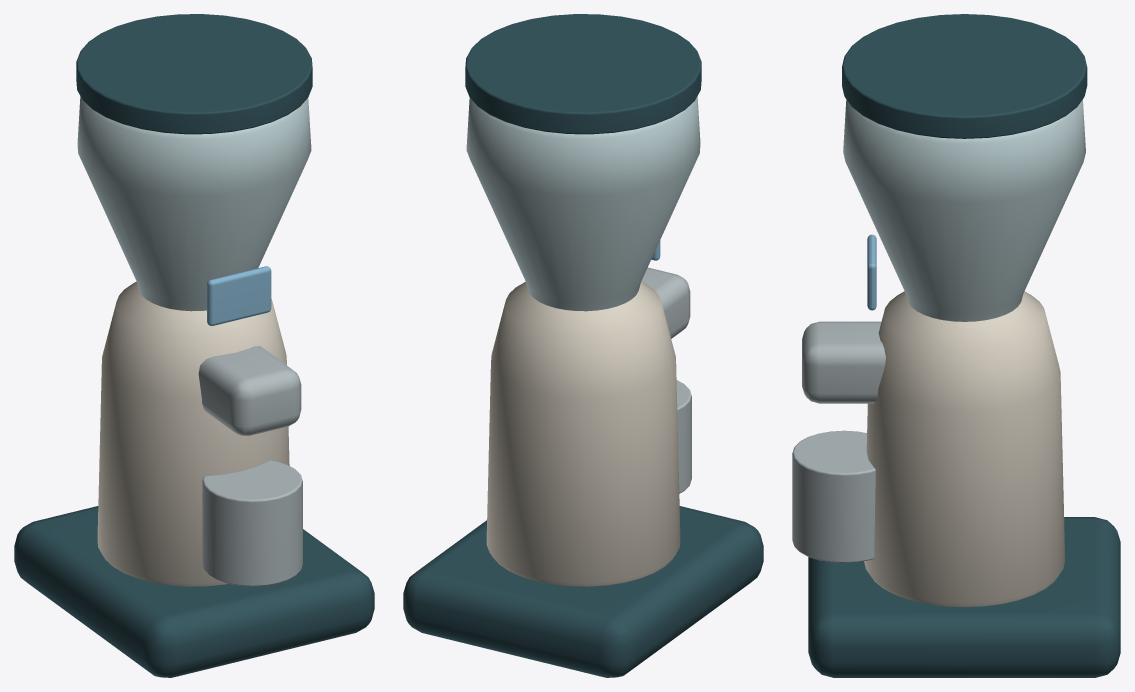
File: ce_grinder.glb
3 renders of one model, left to right at view 1: azimuth 30°, elevation 25°; view 2: azimuth 150°, elevation 25°; view 3: azimuth 270°, elevation 25°, orthographic. The views are drawn at different scales.
Parts seen in each view (by area): view 1: prop; view 2: prop; view 3: prop.
Boxes of the visible parts, x1=… form: prop: x1=14, y1=14, x2=374, y2=677; prop: x1=403, y1=14, x2=763, y2=677; prop: x1=792, y1=14, x2=1120, y2=677.
Size of the model in its own units: 0.235 by 0.538 by 0.284.
